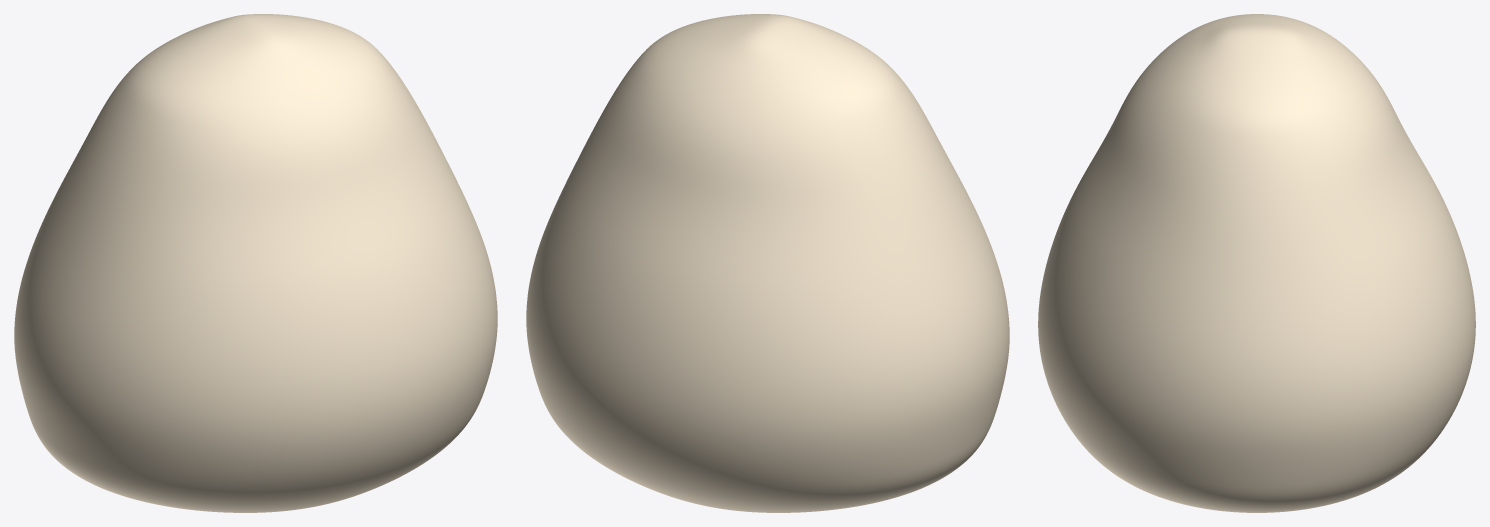
File: xiaobai-torso.glb
The picture shows the model from 3 angles, left to right: view 1: azimuth 30°, elevation 25°; view 2: azimuth 150°, elevation 25°; view 3: azimuth 270°, elevation 25°; orthographic projection. The views are drawn at different scales.
Visible parts, largest first — view 1: Body; view 2: Body; view 3: Body.
Part boxes in pixels (left/top/right/bottom): Body: left=14, top=14, right=497, bottom=512; Body: left=526, top=14, right=1009, bottom=512; Body: left=1038, top=14, right=1475, bottom=512.
Bounding box in the file's own units: 39.76 × 39.55 × 35.99.
